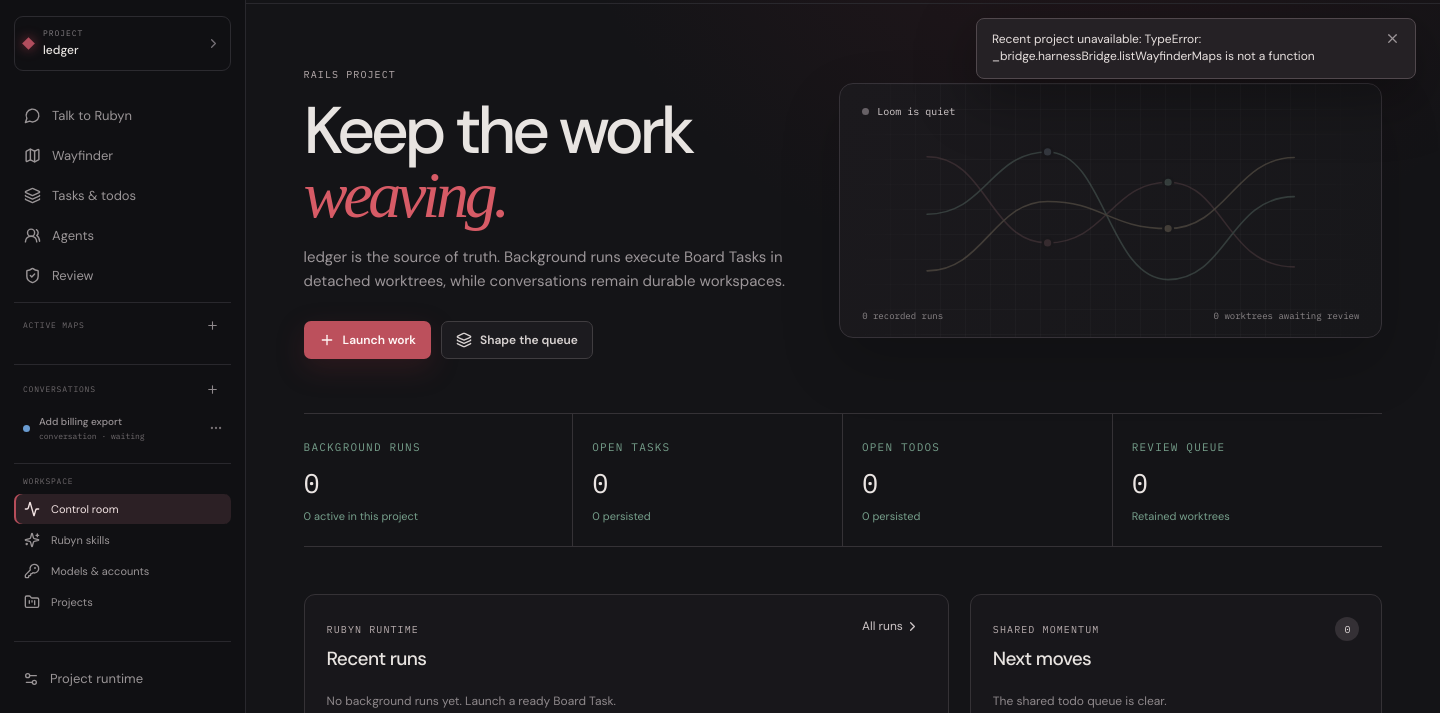
Test: native product flow › finishes a waiting conversation before making its worktree reviewable
Expected: the text "ledger is the source of truth." is shown, top-left (304, 245), bottom-right (795, 293)
Click the button "Talk to Rubyn": (122, 116) top-left (14, 97), bottom-right (231, 134)
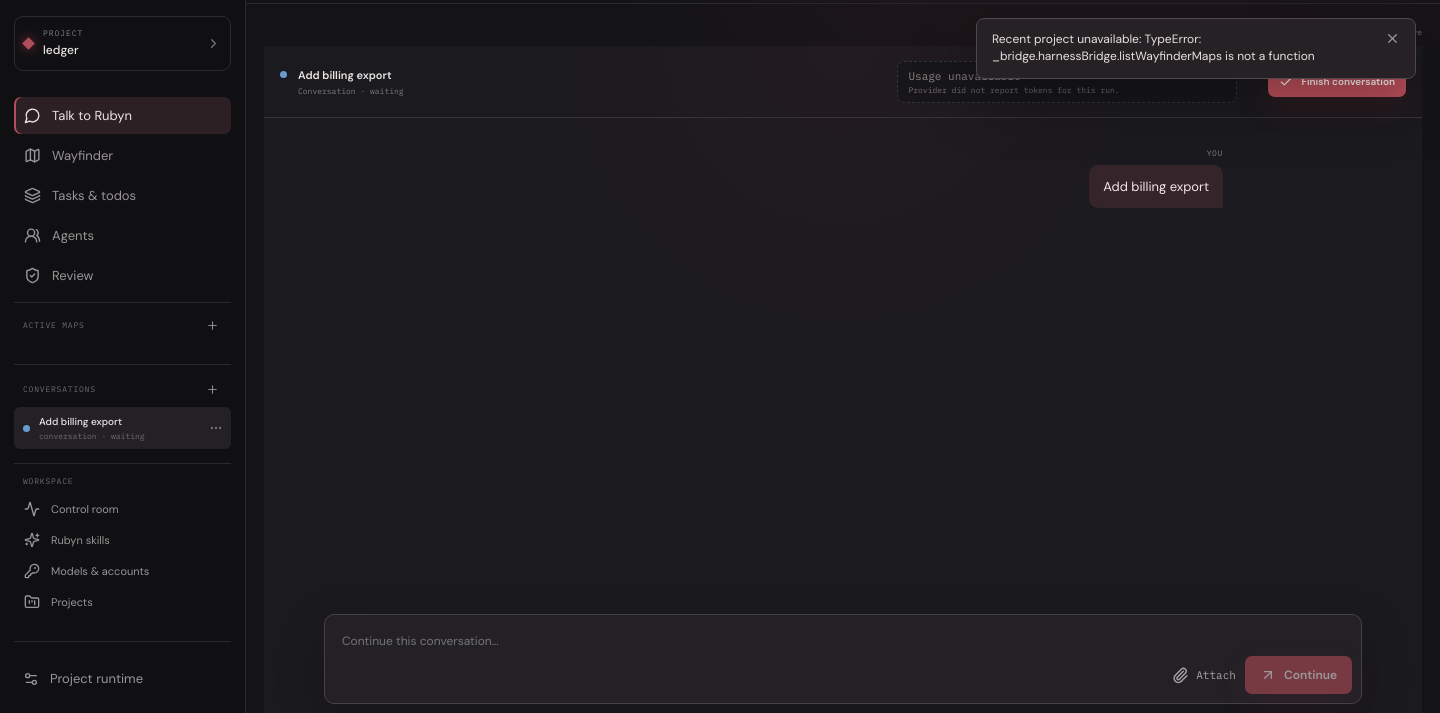
Click the button "Finish conversation": (1337, 82) top-left (1268, 66), bottom-right (1406, 96)
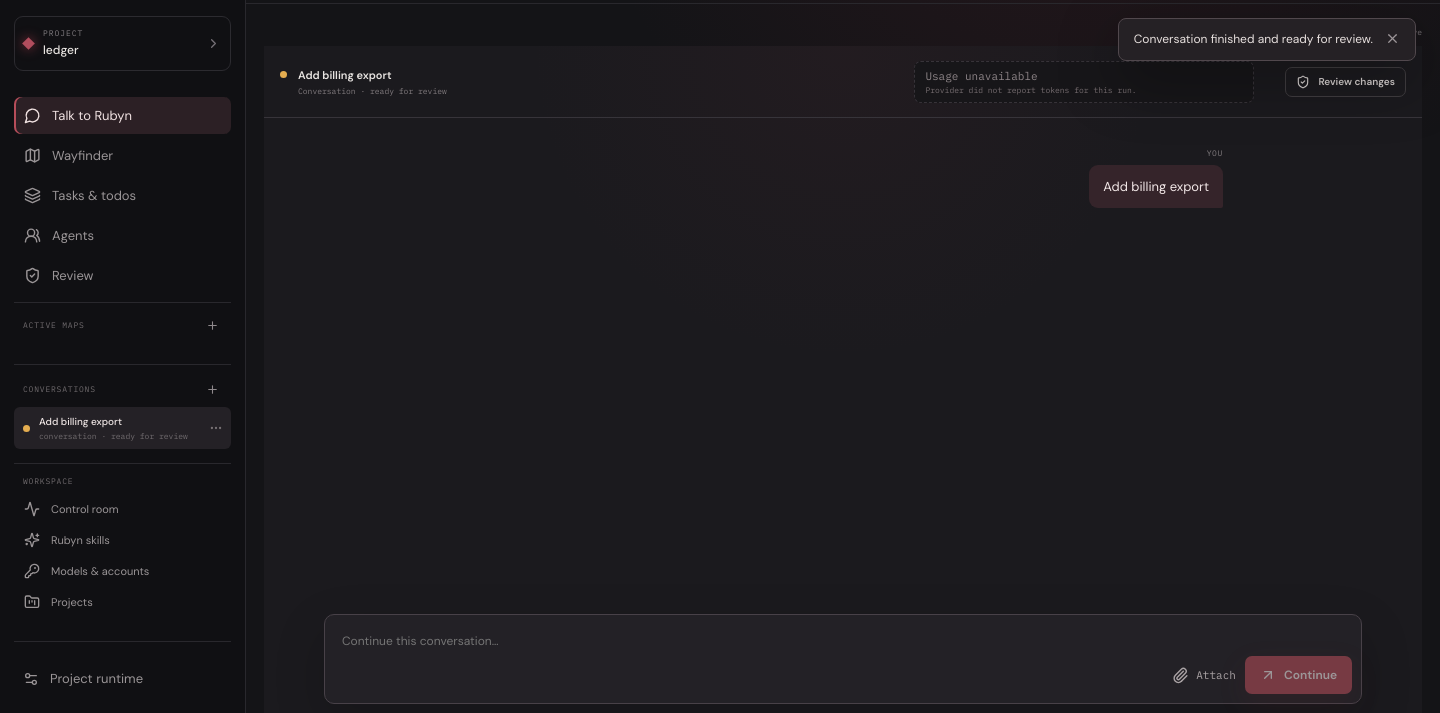
Click the button "Review changes": (1346, 82) top-left (1285, 66), bottom-right (1406, 96)
(page scrolled)
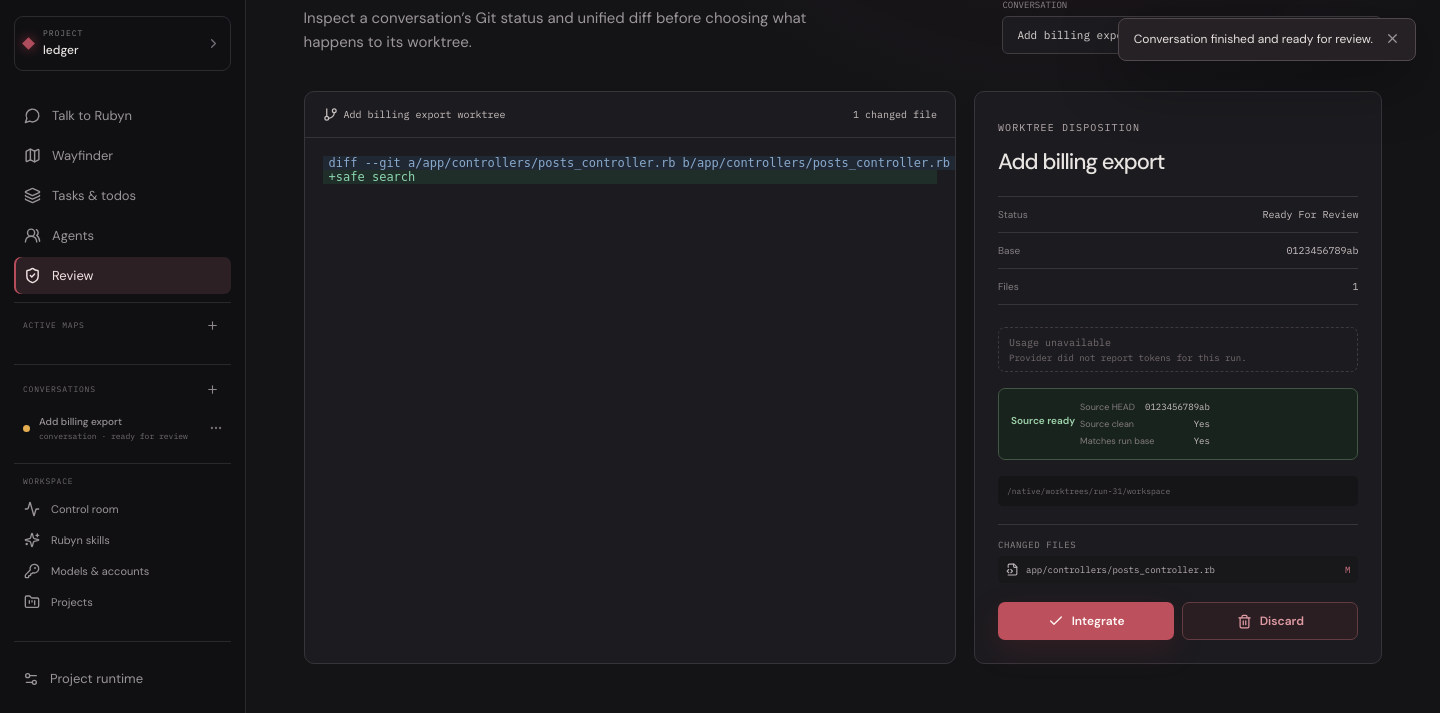
Expected: the button "Integrate" is enabled, top-left (998, 602), bottom-right (1174, 640)
Now the text "1 changed file" is shown, box top-left (853, 107), bottom-right (937, 122)
